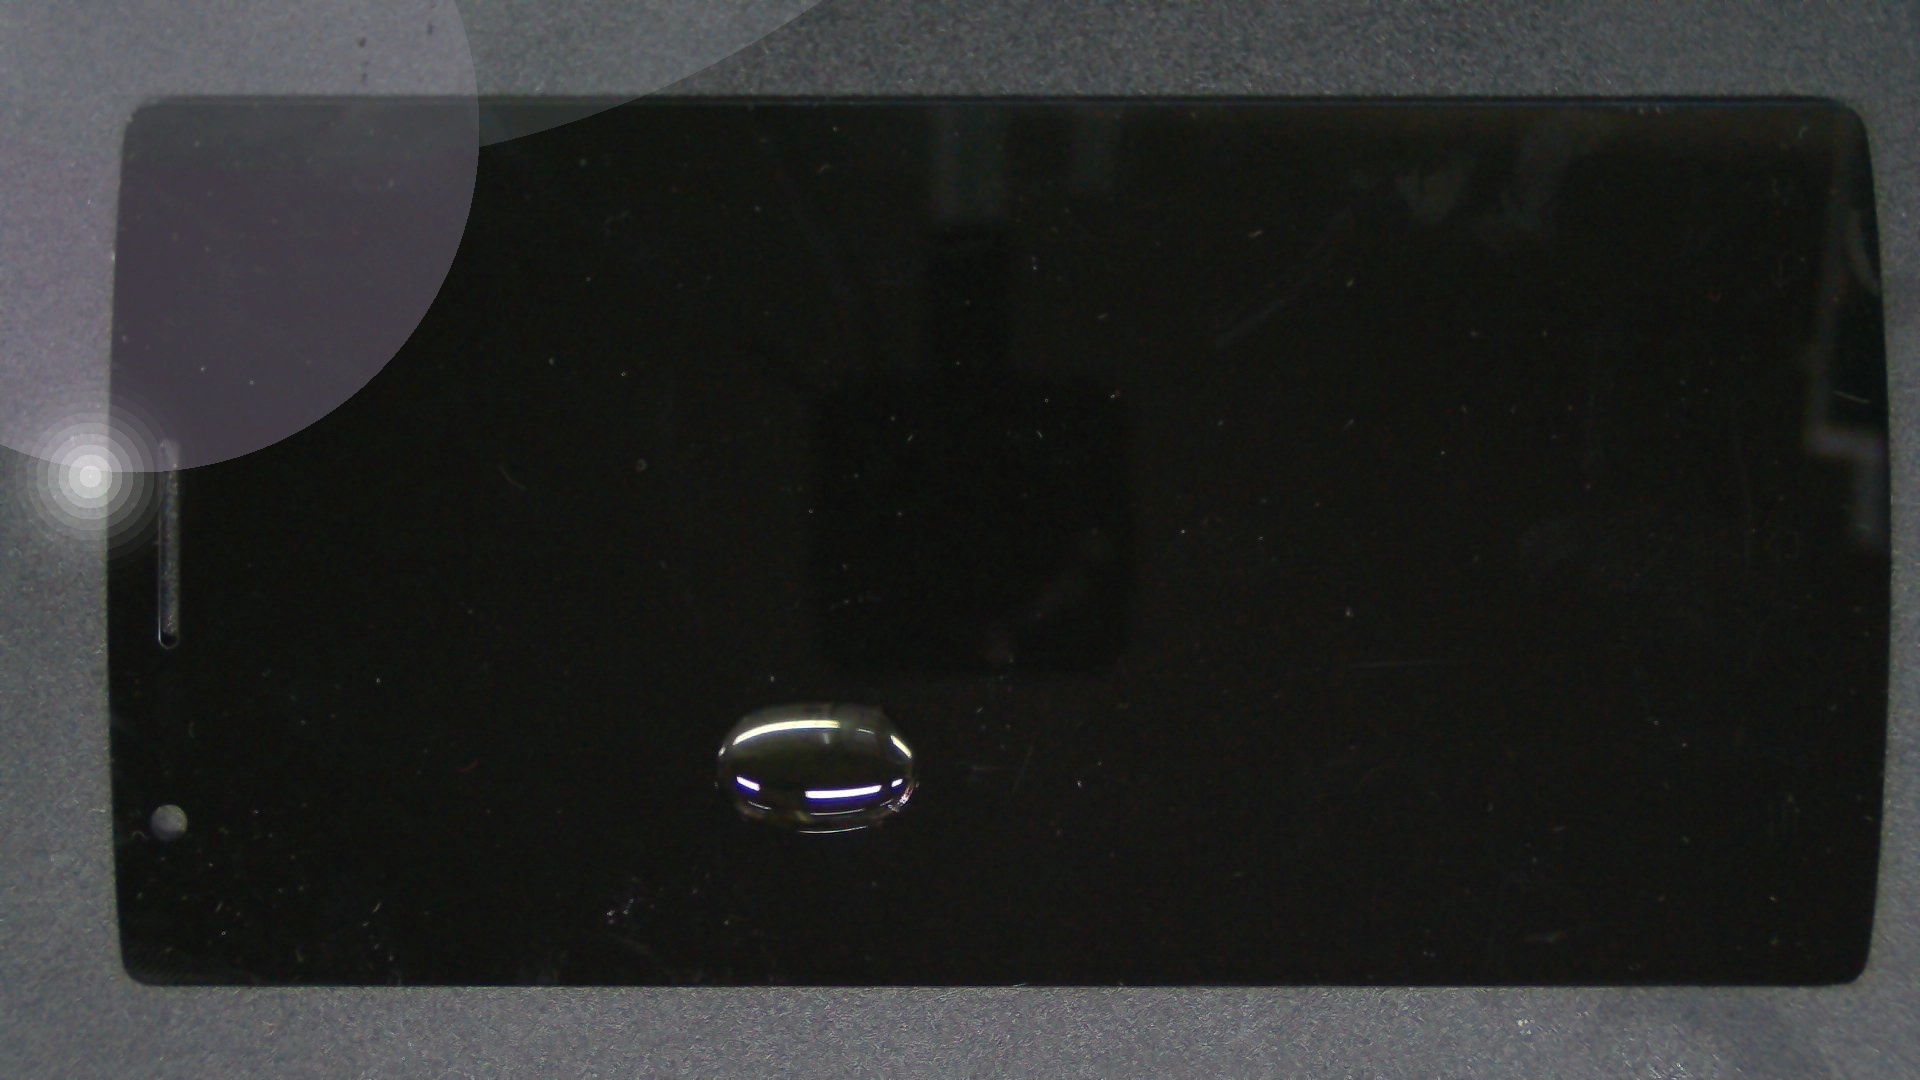oil: (415, 351, 1244, 1054)
